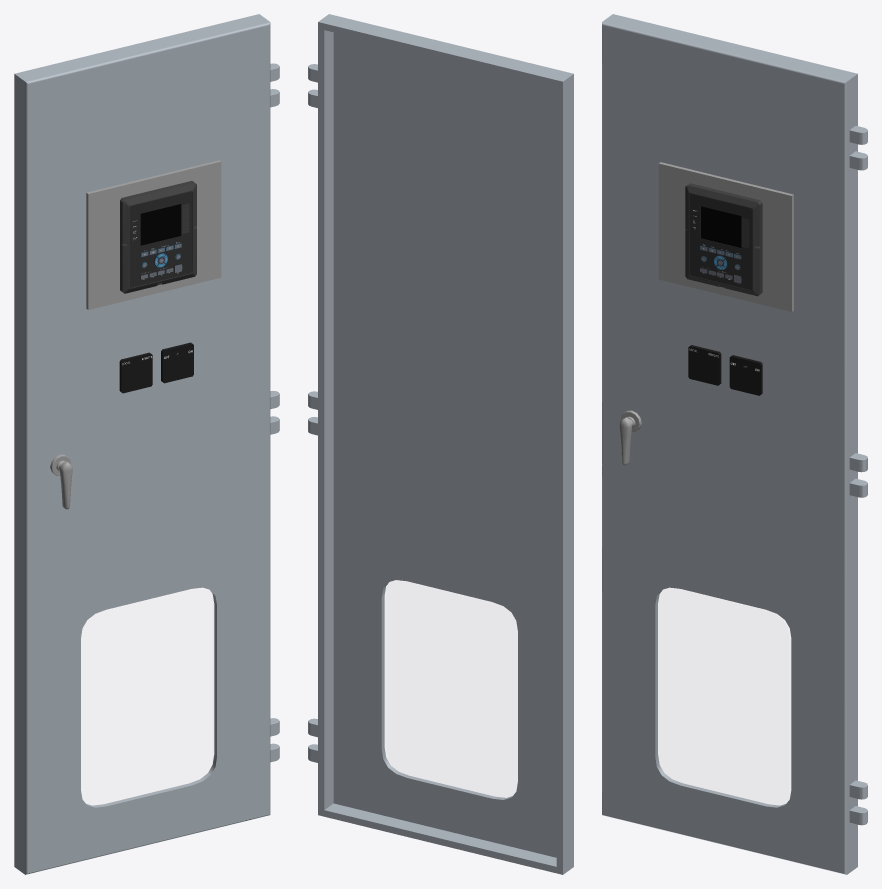
The model's file is VCB_FRONT_DOOR2.fbx.
3 renders of one model, left to right at view 1: azimuth 30°, elevation 25°; view 2: azimuth 150°, elevation 25°; view 3: azimuth 330°, elevation 25°, orthographic.
Visible parts, largest first — view 1: sssss1; view 2: sssss1; view 3: sssss1.
Boxes of the visible parts, x1,y1,x2,y2 form: sssss1: [14, 14, 279, 874]; sssss1: [308, 14, 573, 874]; sssss1: [602, 14, 867, 874].
Bounding box in the file's own units: 0.6334 × 1.85 × 0.0934.
Materials: 5 (4 with a texture image).
